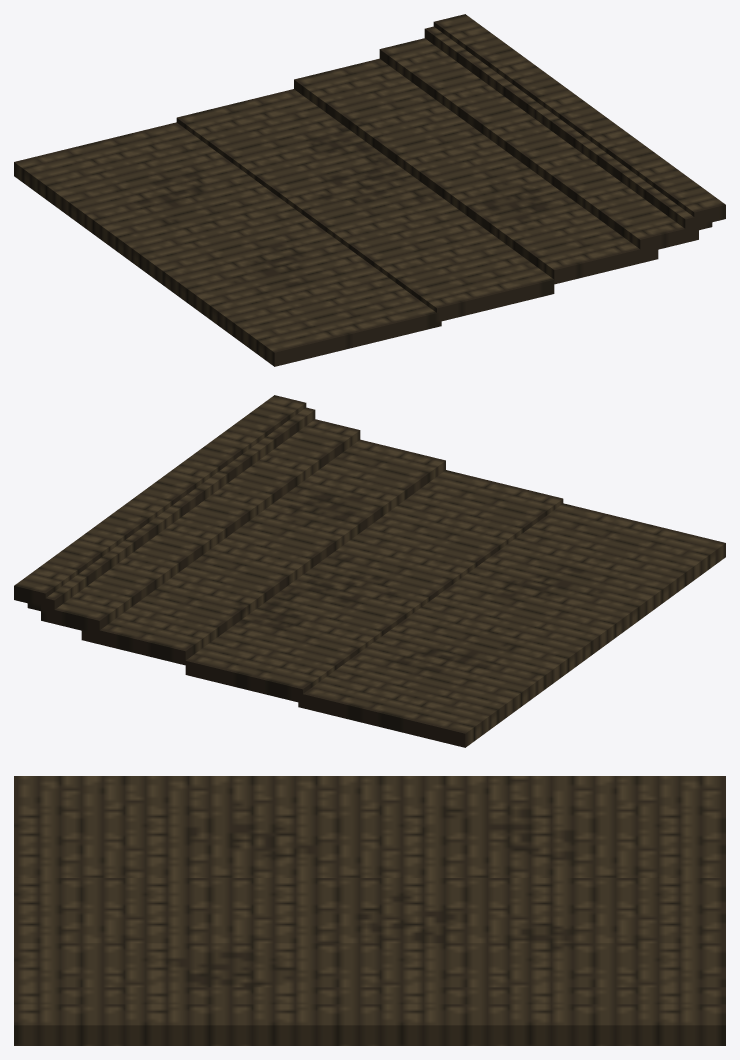
The model's file is Floor_C-1_00.fbx.
3 views of the same model, one above another, from view 1: azimuth 30°, elevation 25°; view 2: azimuth 150°, elevation 25°; view 3: azimuth 270°, elevation 25° (orthographic). The views are drawn at different scales.
Parts seen in each view (by area): view 1: Floor_C-1_00; view 2: Floor_C-1_00; view 3: Floor_C-1_00.
Part boxes in pixels (x1,y1,x2,y2): Floor_C-1_00: (14, 14, 725, 366); Floor_C-1_00: (14, 395, 725, 747); Floor_C-1_00: (14, 776, 725, 1045).
Size of the model in its own units: 500 by 55 by 500.
